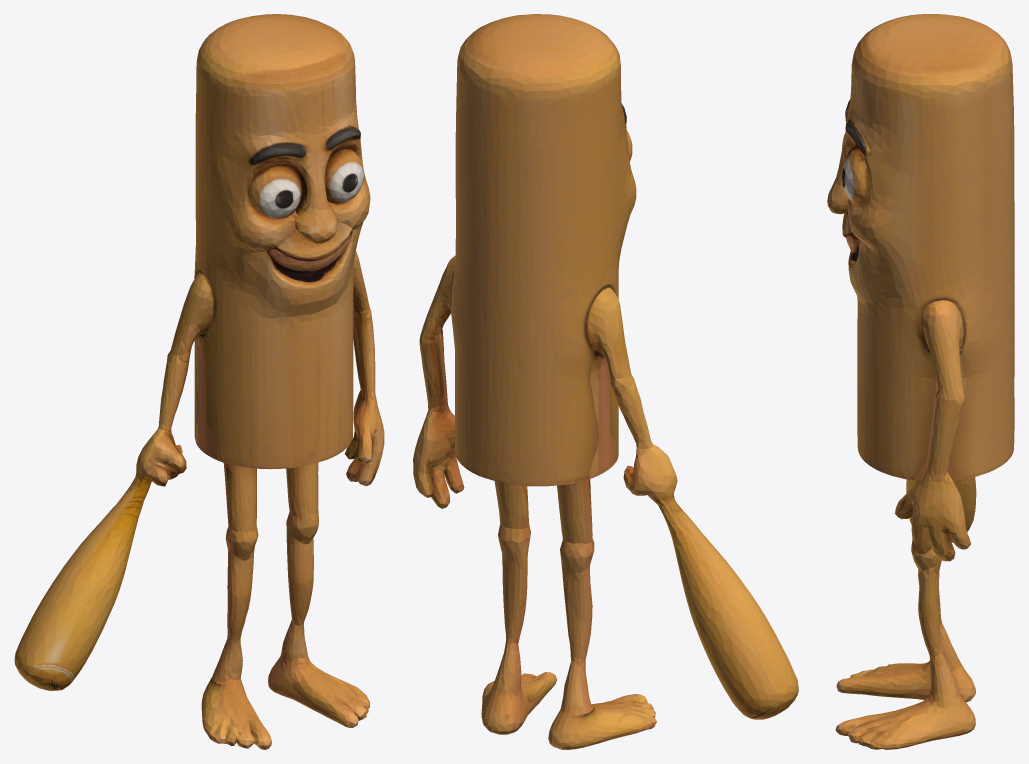
Rendered from Choco_Character_0518141014_texture.fbx.
3 views of the same model, side by side, from view 1: azimuth 30°, elevation 25°; view 2: azimuth 150°, elevation 25°; view 3: azimuth 270°, elevation 25° (orthographic). The views are drawn at different scales.
Parts seen in each view (by area): view 1: temp; view 2: temp; view 3: temp.
Boxes of the visible parts, x1,y1,x2,y2 form: temp: (14, 14, 384, 749); temp: (413, 14, 798, 749); temp: (827, 14, 1014, 749).
Bounding box in the file's own units: 113 × 200 × 49.63.
Materials: 1 (1 with a texture image).
